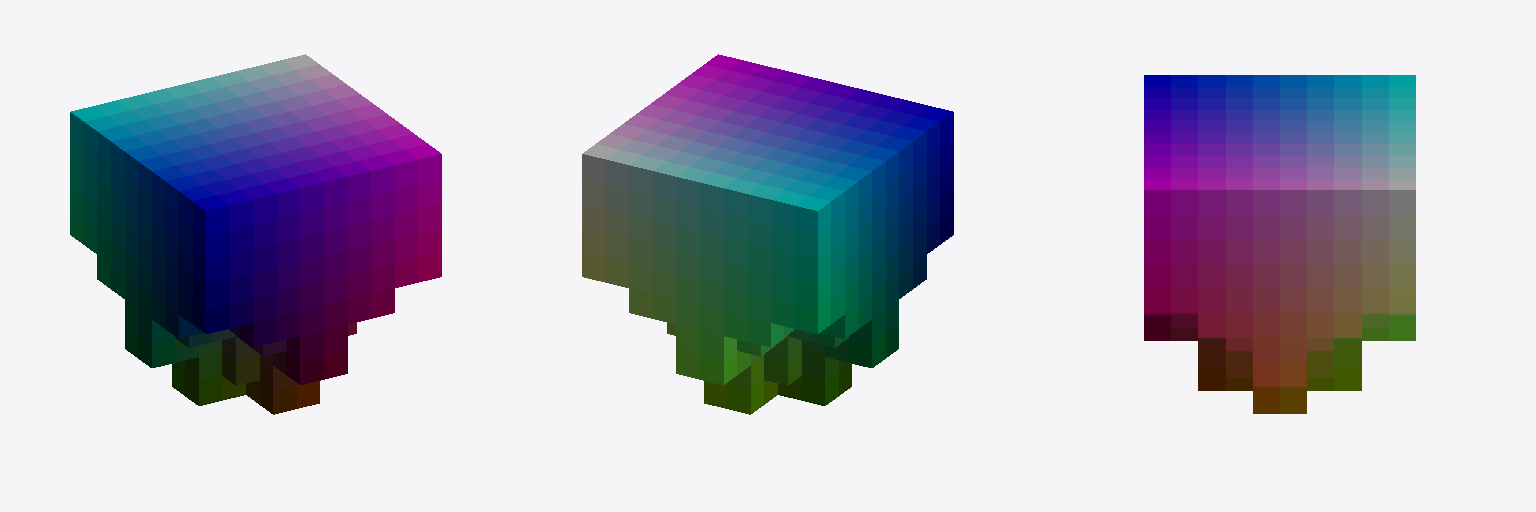
The model's file is rgb_cube.obj.
3 views of the same model, side by side, from view 1: azimuth 30°, elevation 25°; view 2: azimuth 150°, elevation 25°; view 3: azimuth 270°, elevation 25° (orthographic).
Size of the model in its own units: 10 by 10 by 10.